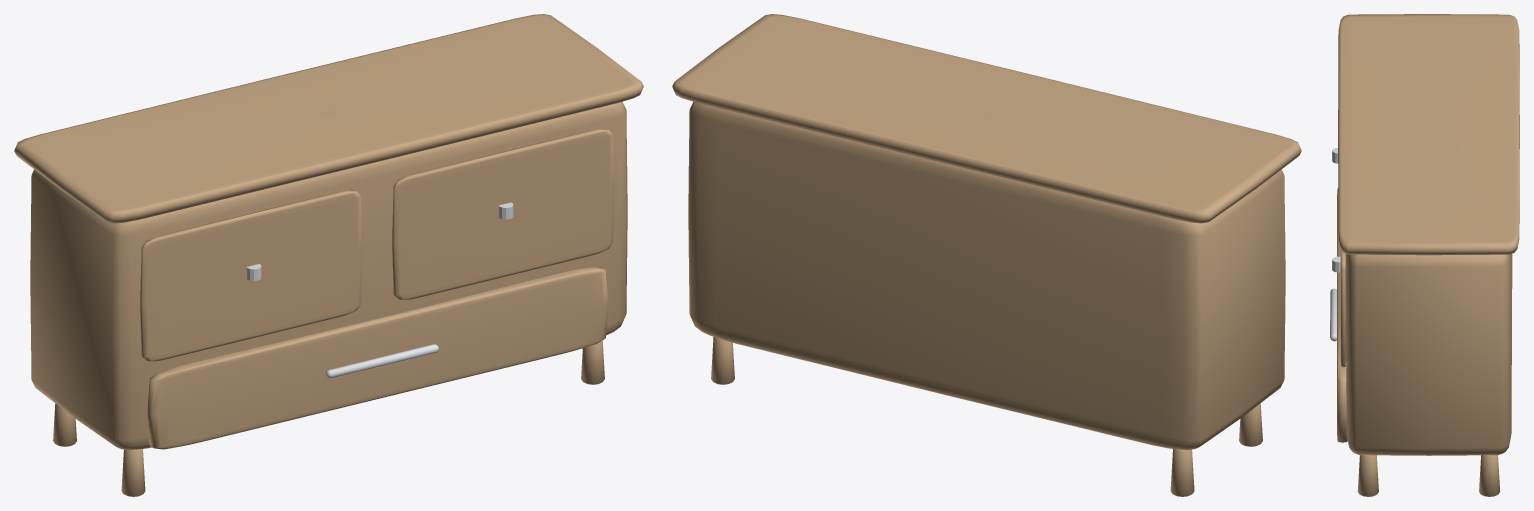
File: sideboard.glb
The picture shows the model from 3 angles, left to right: view 1: azimuth 30°, elevation 25°; view 2: azimuth 150°, elevation 25°; view 3: azimuth 270°, elevation 25°; orthographic projection. The views are drawn at different scales.
Parts seen in each view (by area): view 1: sideboard, drawer/wood, drawer/metal; view 2: sideboard; view 3: sideboard, drawer/wood, drawer/metal.
Boxes of the visible parts, x1,y1,x2,y2 form: sideboard: (14,14,643,496); drawer/wood: (147,267,608,449); drawer/metal: (326,344,438,378); sideboard: (672,14,1301,496); sideboard: (1332,14,1519,496); drawer/wood: (1337,188,1347,442); drawer/metal: (1330,288,1336,341).
Size of the model in its own units: 1.46 by 0.77 by 0.501.
